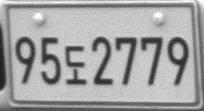2: (90, 35, 113, 85)
5: (40, 36, 61, 85)
7: (115, 36, 137, 85), (140, 36, 162, 85)
9: (166, 35, 189, 85), (14, 35, 36, 84)
도: (64, 45, 87, 85)
